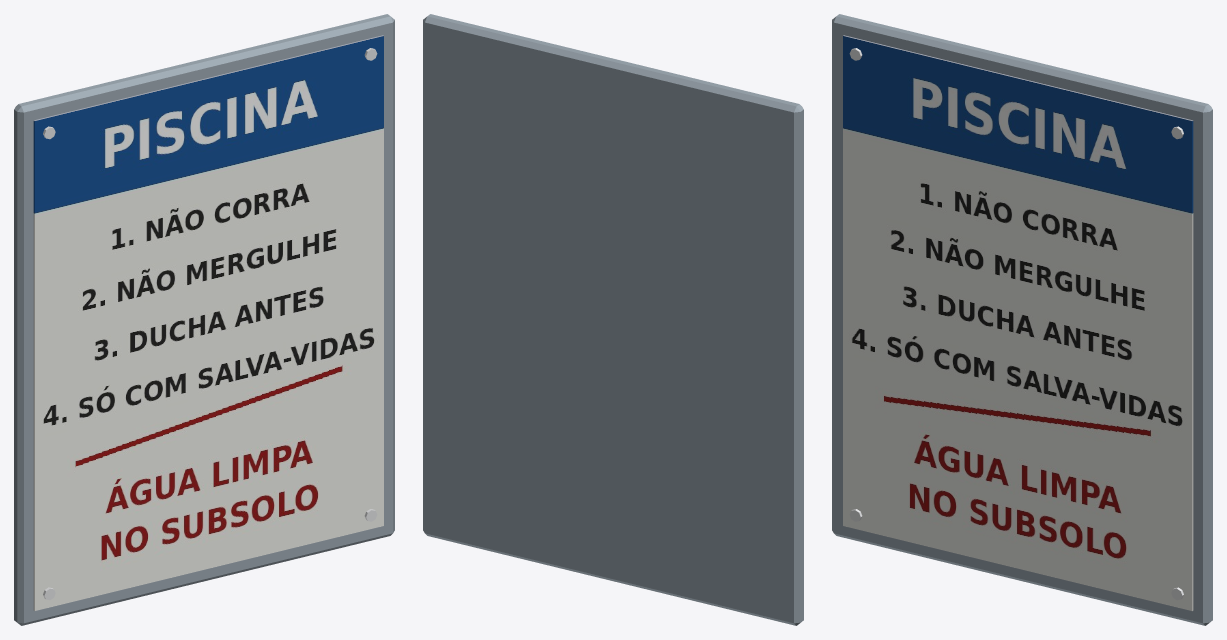
Rendered from placa_regras_piscina.glb.
3 views of the same model, side by side, from view 1: azimuth 30°, elevation 25°; view 2: azimuth 150°, elevation 25°; view 3: azimuth 330°, elevation 25° (orthographic).
Visible parts, largest first — view 1: placa_regras_piscina_placa_piscina, placa_regras_piscina_aco_pintado; view 2: placa_regras_piscina_aco_pintado; view 3: placa_regras_piscina_placa_piscina, placa_regras_piscina_aco_pintado.
Boxes of the visible parts, bbox=[...] form: placa_regras_piscina_placa_piscina: bbox=[33, 35, 383, 611]; placa_regras_piscina_aco_pintado: bbox=[14, 14, 394, 625]; placa_regras_piscina_aco_pintado: bbox=[423, 14, 803, 625]; placa_regras_piscina_placa_piscina: bbox=[843, 35, 1193, 611]; placa_regras_piscina_aco_pintado: bbox=[832, 14, 1212, 625].
Bounding box in the file's own units: 0.54 × 0.71 × 0.026.
3 materials, 1 textured.
